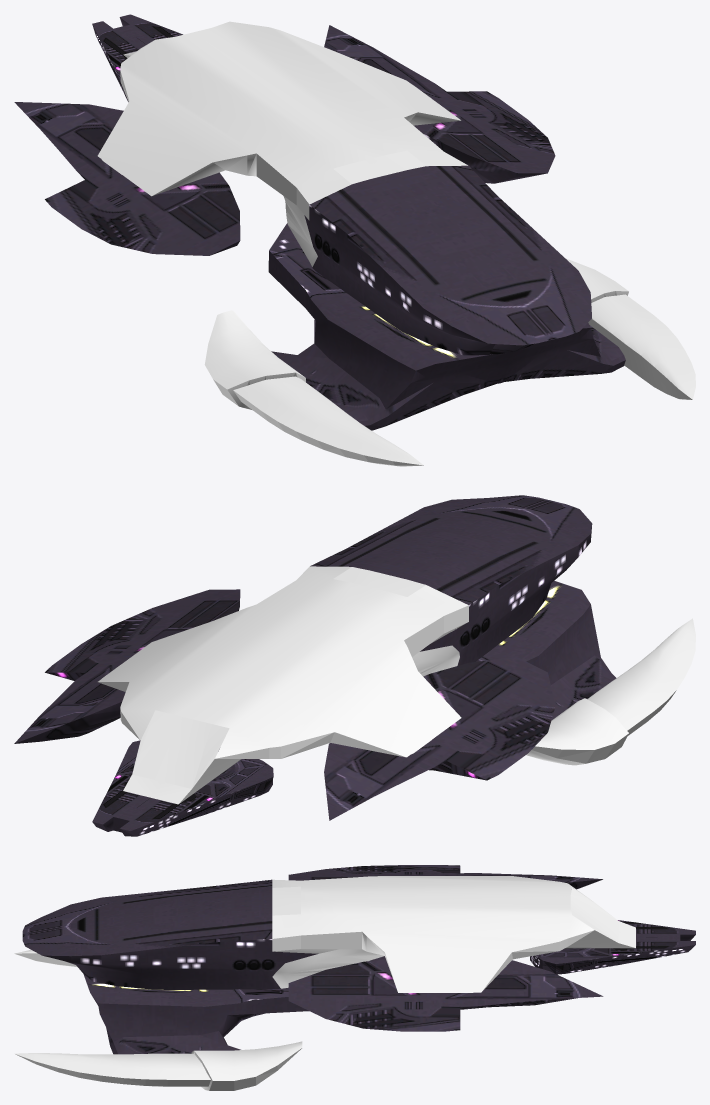
The model's file is Dom_Reaper.fbx.
The picture shows the model from 3 angles, top to bottom: view 1: azimuth 30°, elevation 25°; view 2: azimuth 150°, elevation 25°; view 3: azimuth 270°, elevation 25°; orthographic projection. The views are drawn at different scales.
Visible parts, largest first — view 1: Dom_Reaper; view 2: Dom_Reaper; view 3: Dom_Reaper.
Boxes of the visible parts, x1=… form: Dom_Reaper: x1=14, y1=14, x2=695, y2=466; Dom_Reaper: x1=14, y1=495, x2=695, y2=836; Dom_Reaper: x1=14, y1=865, x2=695, y2=1090.
Bounding box in the file's own units: 569 × 200 × 986.
Materials: 1 (1 with a texture image).
